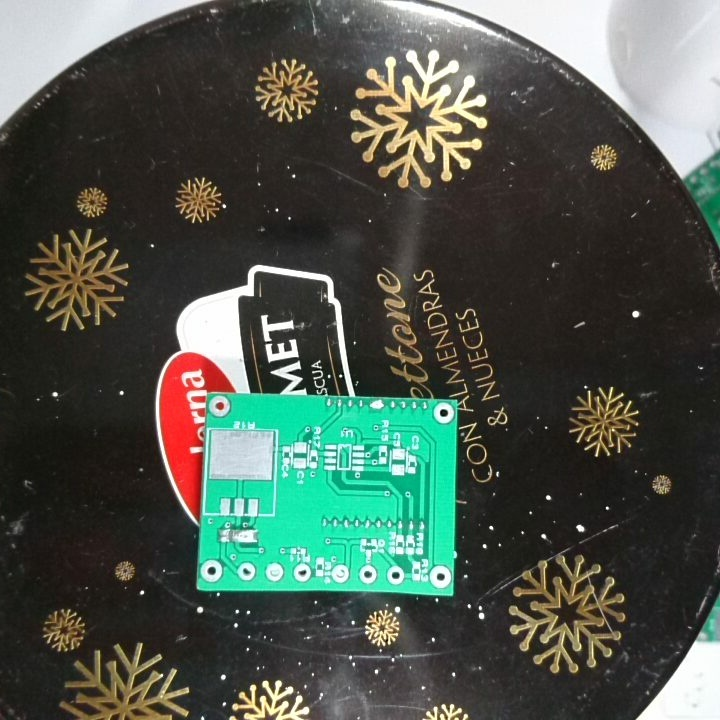F: (199, 558, 225, 586), (428, 562, 452, 590), (431, 400, 456, 426), (207, 393, 231, 420), (262, 560, 286, 585), (328, 562, 351, 586), (384, 563, 406, 587), (235, 560, 257, 584), (291, 560, 312, 585), (358, 563, 379, 586)
P: (228, 527, 260, 546), (368, 398, 385, 412)
